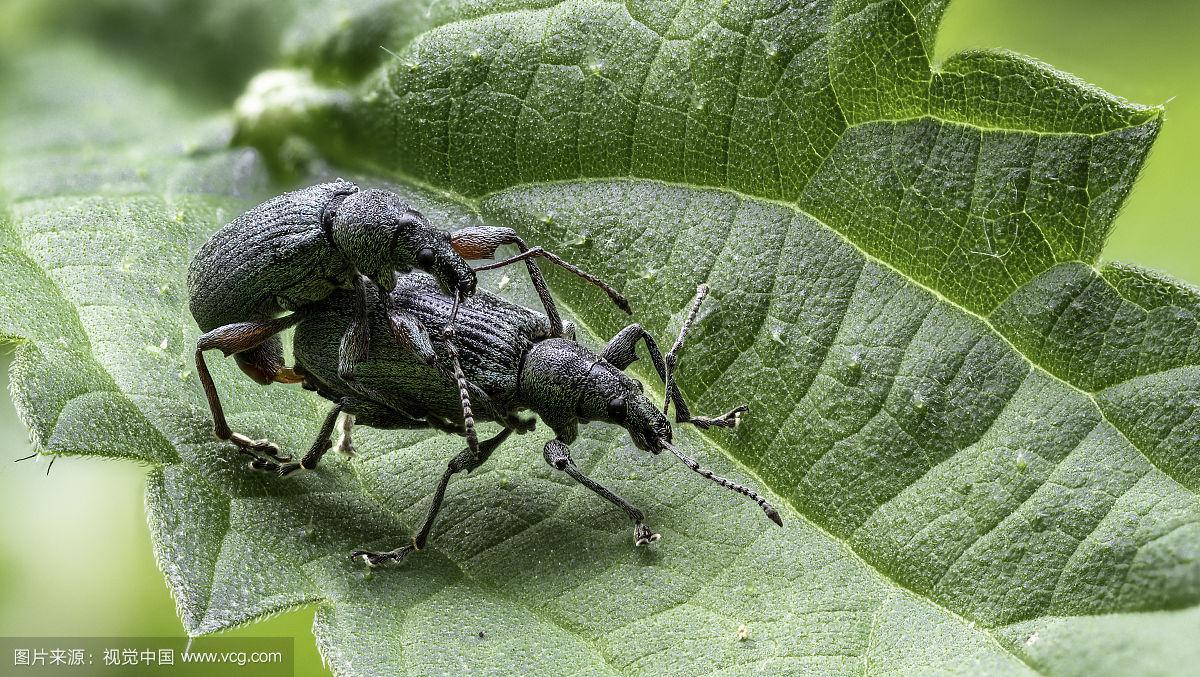Curculionidae: (238, 264, 786, 575), (185, 176, 632, 465)
